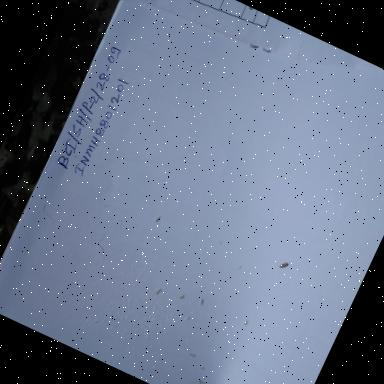pbw: (270, 248, 299, 281)
